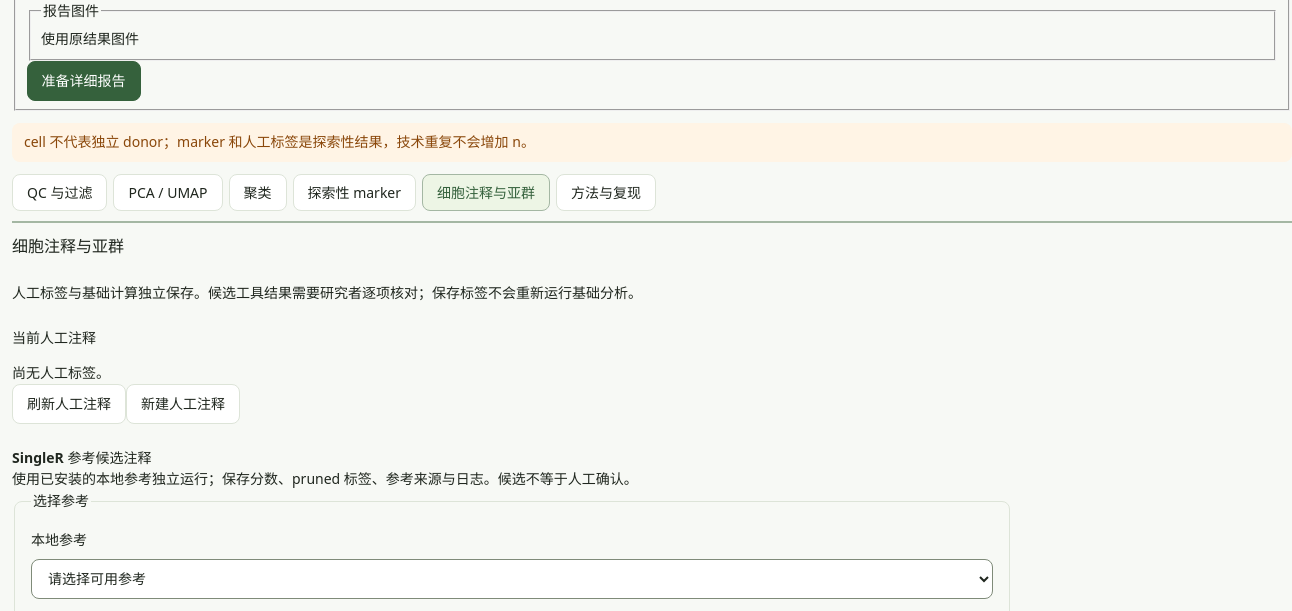
Test: requires an available reference and starts SingleR as a separate task with the fixed processed source
Select "monaco · human · 可用" in the dropdown labelled "本地参考" at x=512, y=579, box [31,559,993,599]
(page scrolled)
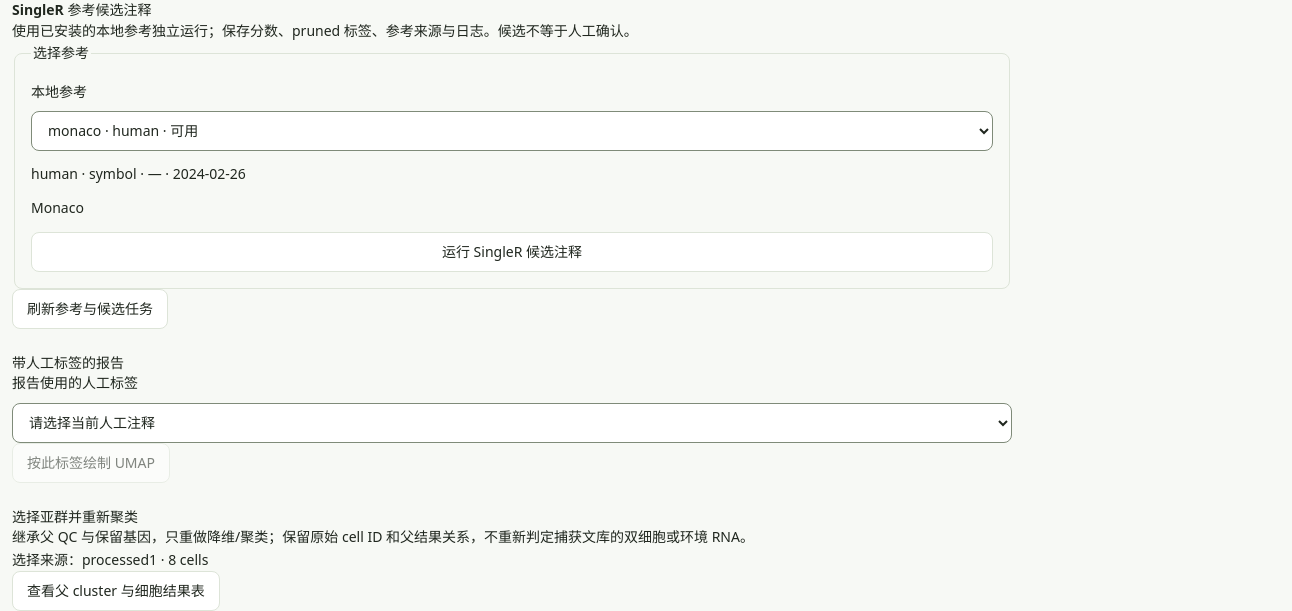
Click the button "运行 SingleR 候选注释".
click(512, 252)  # box [31,232,993,272]
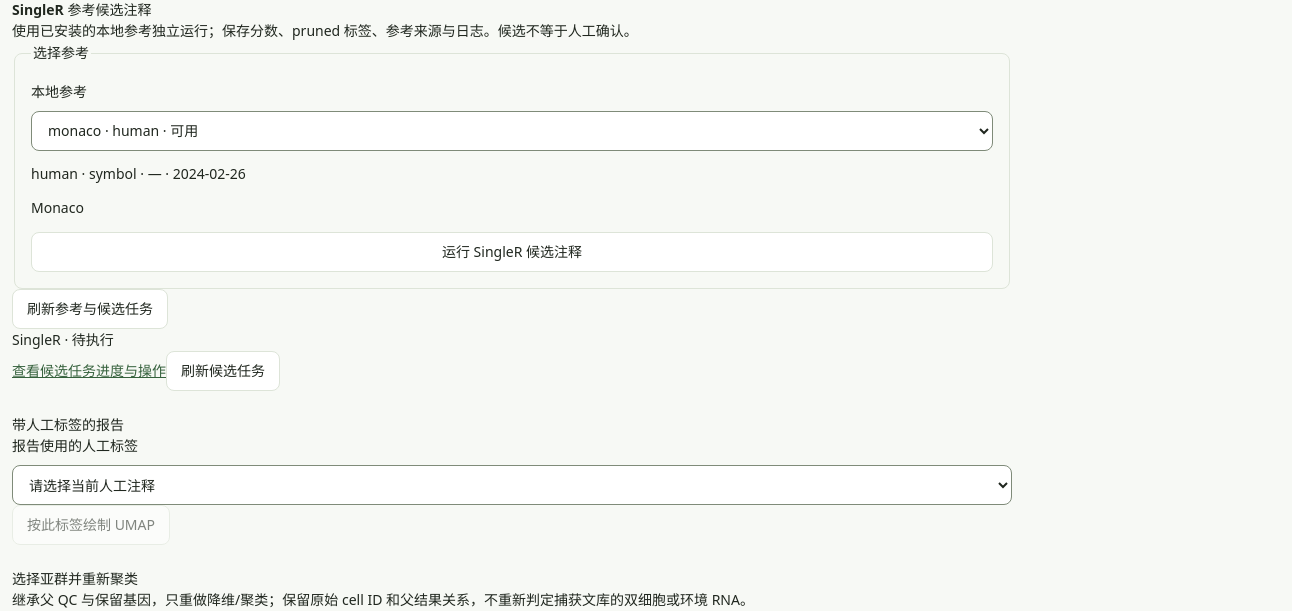
Expected: the text "SingleR · 待执行" is shown, [12,330,114,349]
